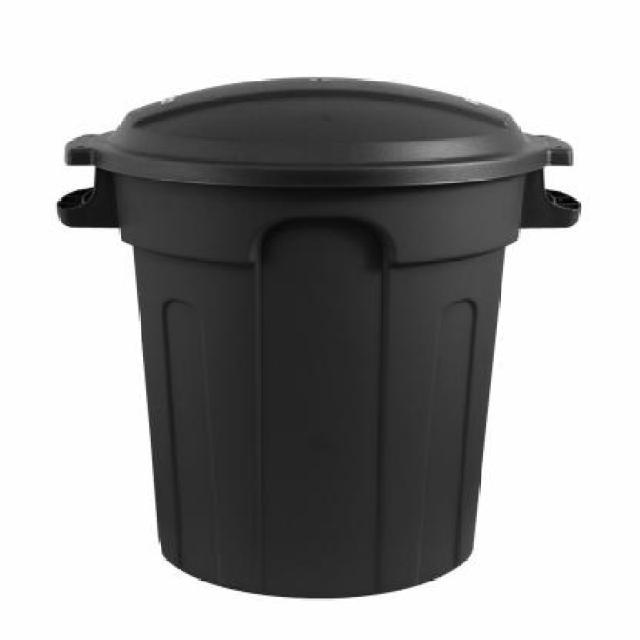garbage container: (49, 72, 605, 612)
